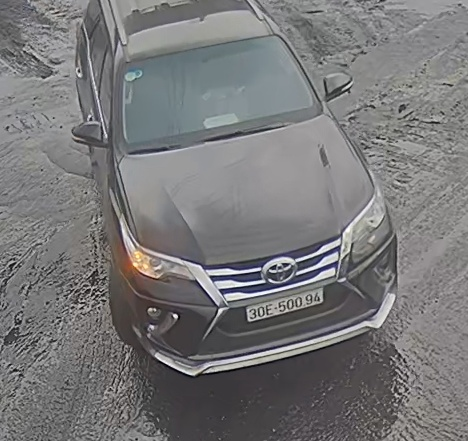vehicle plate: (230, 282, 328, 324)
